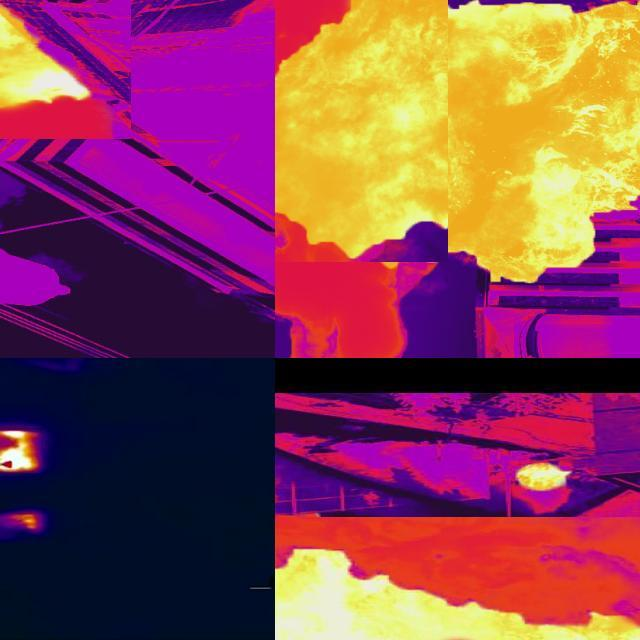fire: (275, 1, 640, 285), (276, 549, 640, 640), (3, 1, 93, 106), (516, 457, 570, 497), (1, 429, 43, 474), (5, 512, 46, 539)
